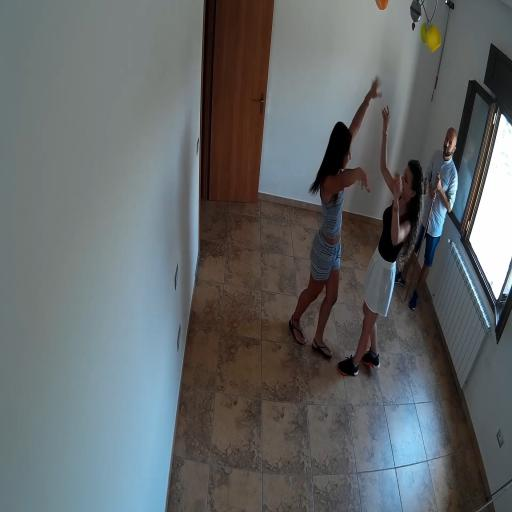nao-violencia: (282, 70, 429, 394)
